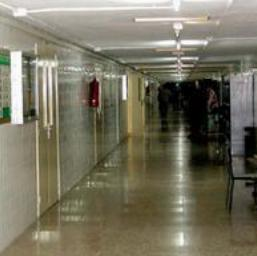Puerta: (36, 49, 59, 207), (96, 65, 104, 159)
